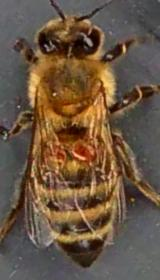varroa_mite: (70, 132, 102, 166), (50, 136, 70, 168)
